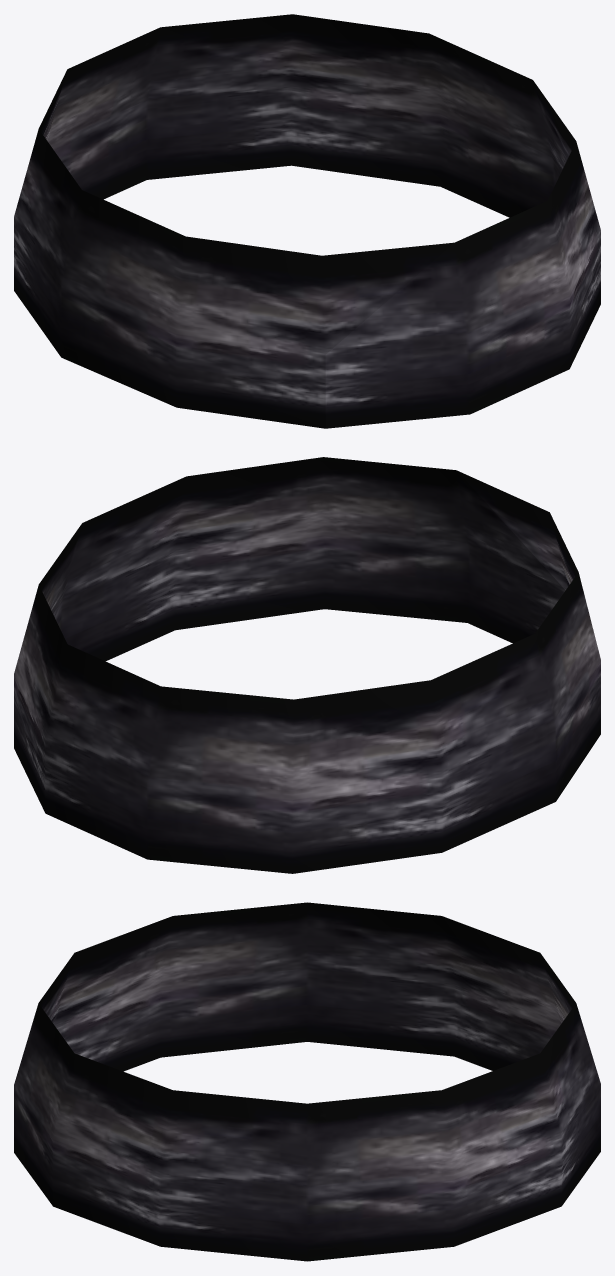
Rendered from gsctk01.obj.
3 renders of one model, top to bottom at view 1: azimuth 30°, elevation 25°; view 2: azimuth 150°, elevation 25°; view 3: azimuth 270°, elevation 25°, orthographic. The views are drawn at different scales.
Visible parts, largest first — view 1: gsctk01; view 2: gsctk01; view 3: gsctk01.
Part boxes in pixels (x1=…): gsctk01: x1=14, y1=14, x2=600, y2=428; gsctk01: x1=14, y1=457, x2=600, y2=873; gsctk01: x1=14, y1=902, x2=600, y2=1261.
Bounding box in the file's own units: 7061 × 2228 × 7976.
